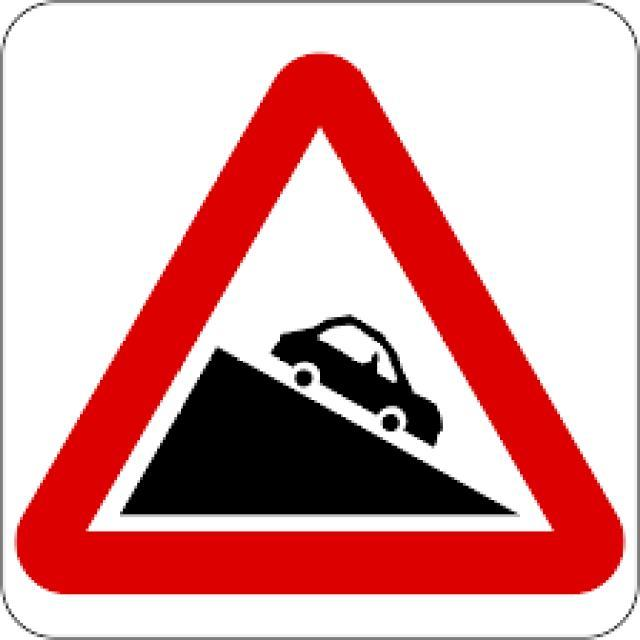steep descent: (21, 52, 622, 593)
